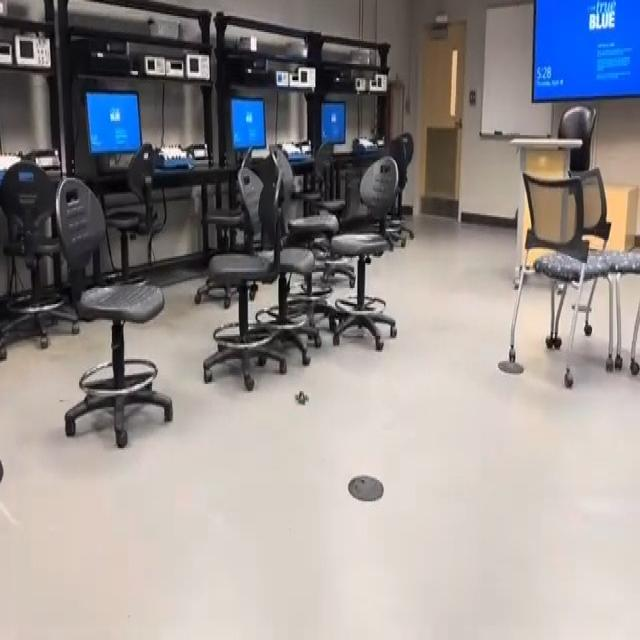drone: (288, 374, 315, 412)
